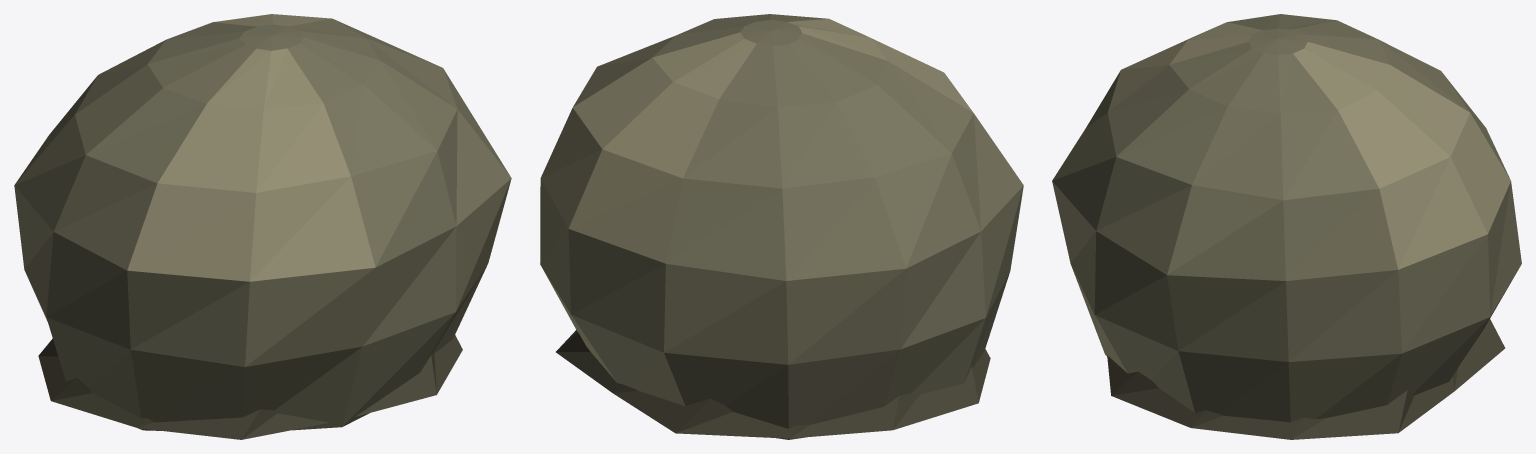
Rendered from cocoon_locust_1.obj.
The picture shows the model from 3 angles, left to right: view 1: azimuth 30°, elevation 25°; view 2: azimuth 150°, elevation 25°; view 3: azimuth 270°, elevation 25°; orthographic projection.
Parts seen in each view (by area): view 1: cocoon_locust_1; view 2: cocoon_locust_1; view 3: cocoon_locust_1.
Boxes of the visible parts, x1,y1,x2,y2 form: cocoon_locust_1: (14, 14, 511, 439); cocoon_locust_1: (540, 14, 1023, 439); cocoon_locust_1: (1052, 14, 1521, 439).
Bounding box in the file's own units: 0.7257 × 0.54 × 0.711.
